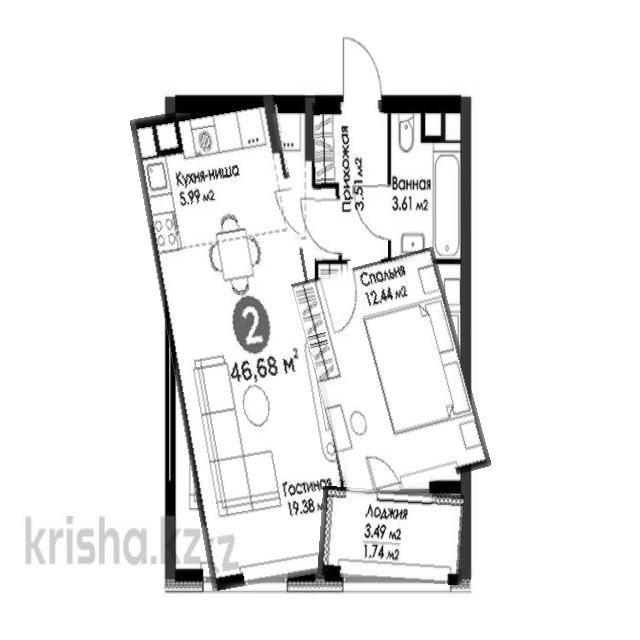balcony: (319, 488, 466, 583)
bathroom: (390, 108, 466, 262)
hallway: (312, 100, 387, 261)
living_room: (305, 254, 478, 495)
studio: (150, 99, 338, 586)
